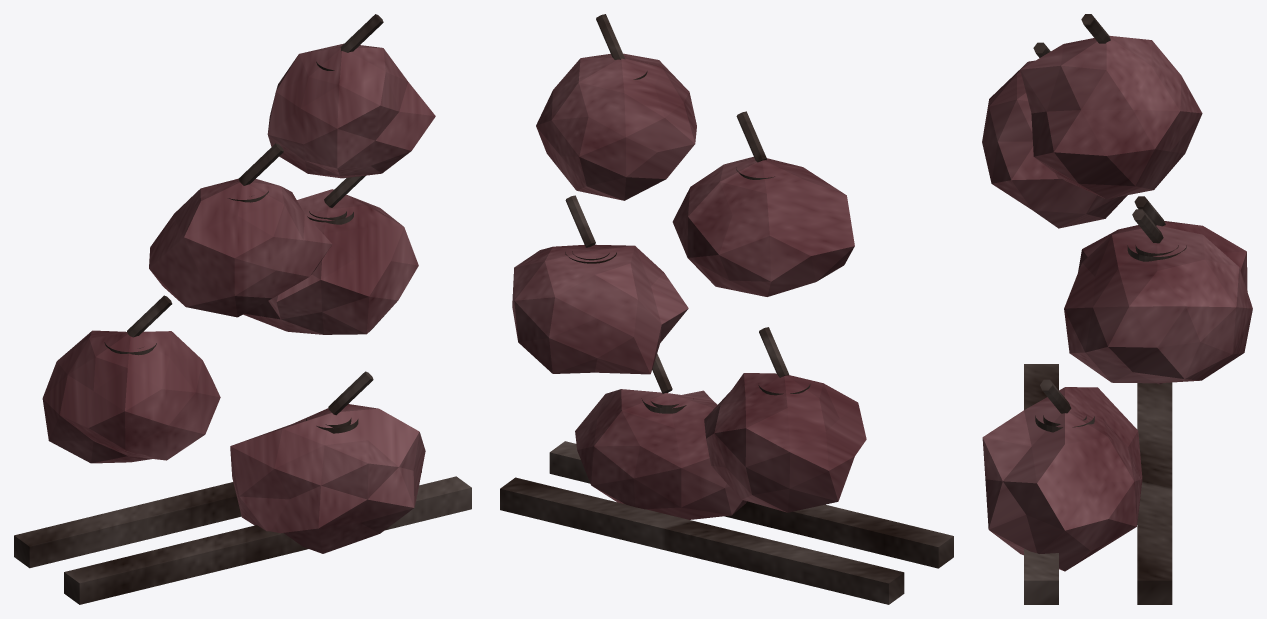
The model's file is 0812_sack_stack_12.glb.
3 views of the same model, side by side, from view 1: azimuth 30°, elevation 25°; view 2: azimuth 150°, elevation 25°; view 3: azimuth 270°, elevation 25° (orthographic). The views are drawn at different scales.
Parts seen in each view (by area): view 1: cloth, wood_dark; view 2: cloth, wood_dark; view 3: cloth, wood_dark.
Boxes of the visible parts, left/top/right/bottom form: cloth: left=42, top=43, right=435, bottom=553; wood_dark: left=14, top=14, right=471, bottom=604; cloth: left=512, top=53, right=866, bottom=519; wood_dark: left=500, top=14, right=953, bottom=604; cloth: left=982, top=35, right=1252, bottom=571; wood_dark: left=1024, top=14, right=1186, bottom=604.
Size of the model in its own units: 1.9 by 2.31 by 1.
2 materials, 2 textured.
